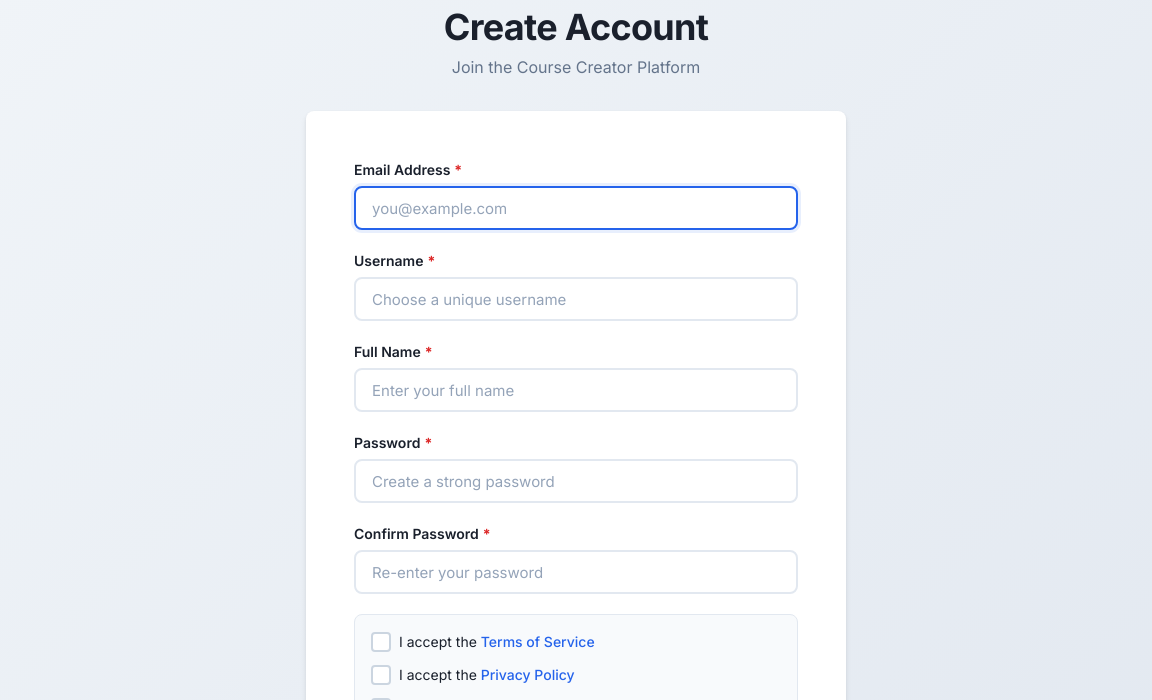
Test: RegistrationPage Component › Form Validation - Email › shows error when email is invalid
Type "invalid-email" into the field labelled "Email Address*" at (576, 208), box [354,186,798,230]
(page scrolled)
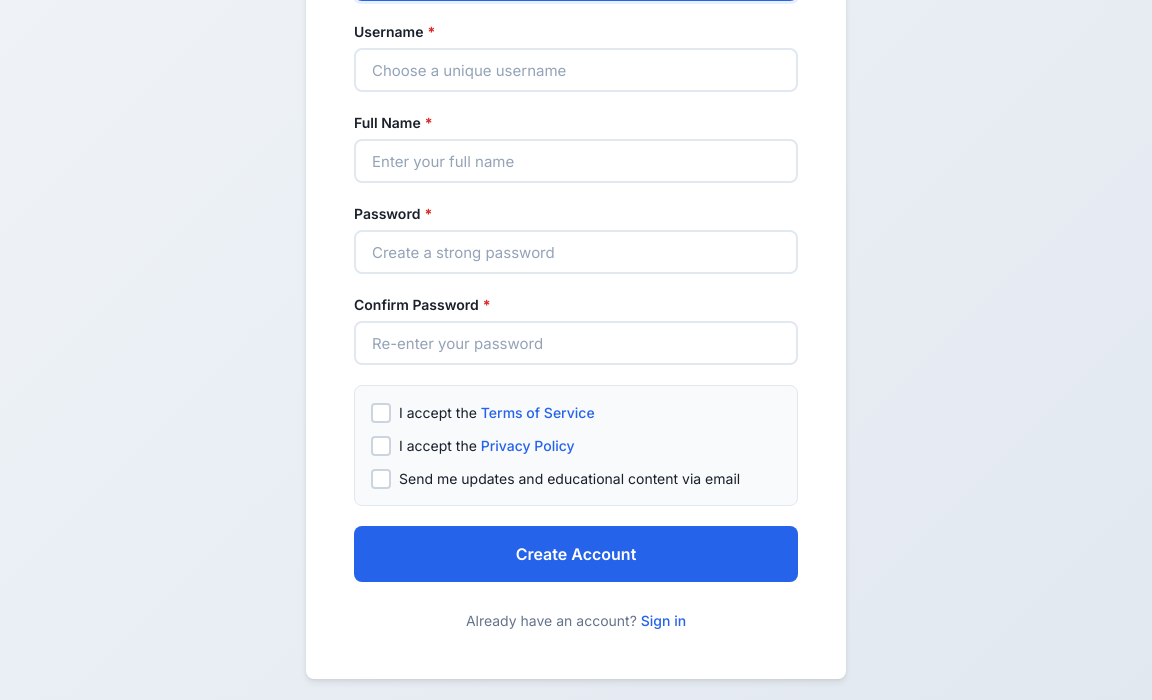
Click the button "Create Account" at (576, 554), box [354,526,798,582]
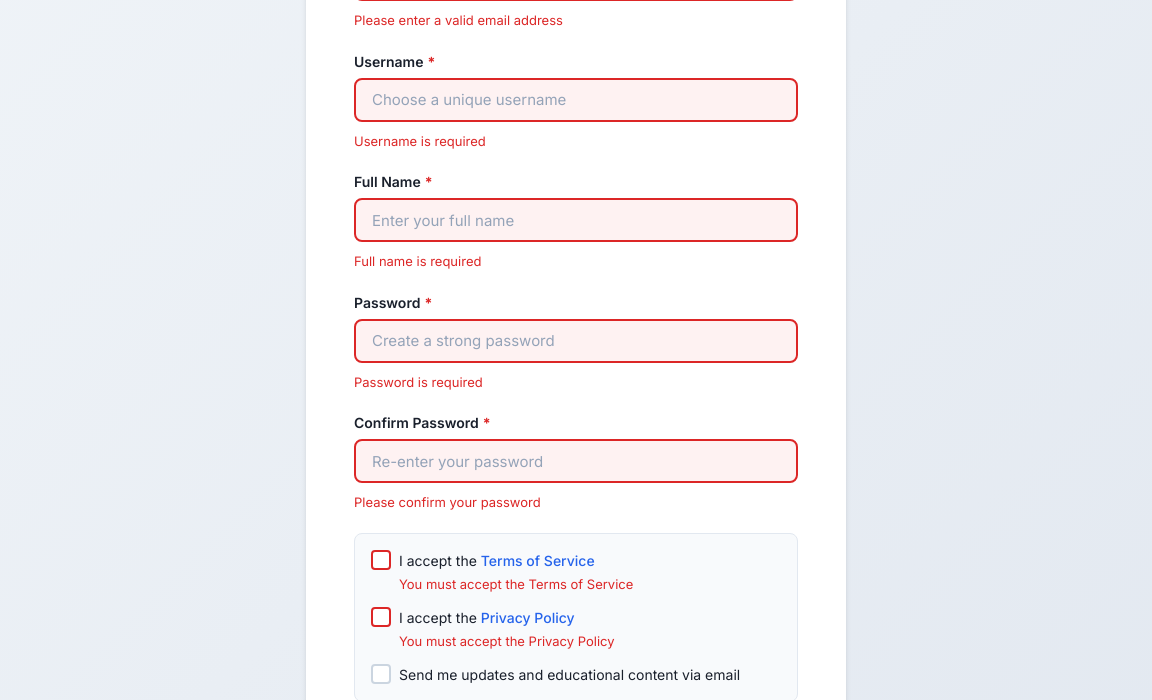
Expected: the text "Please enter a valid email address" is shown, [354,12,563,28]
